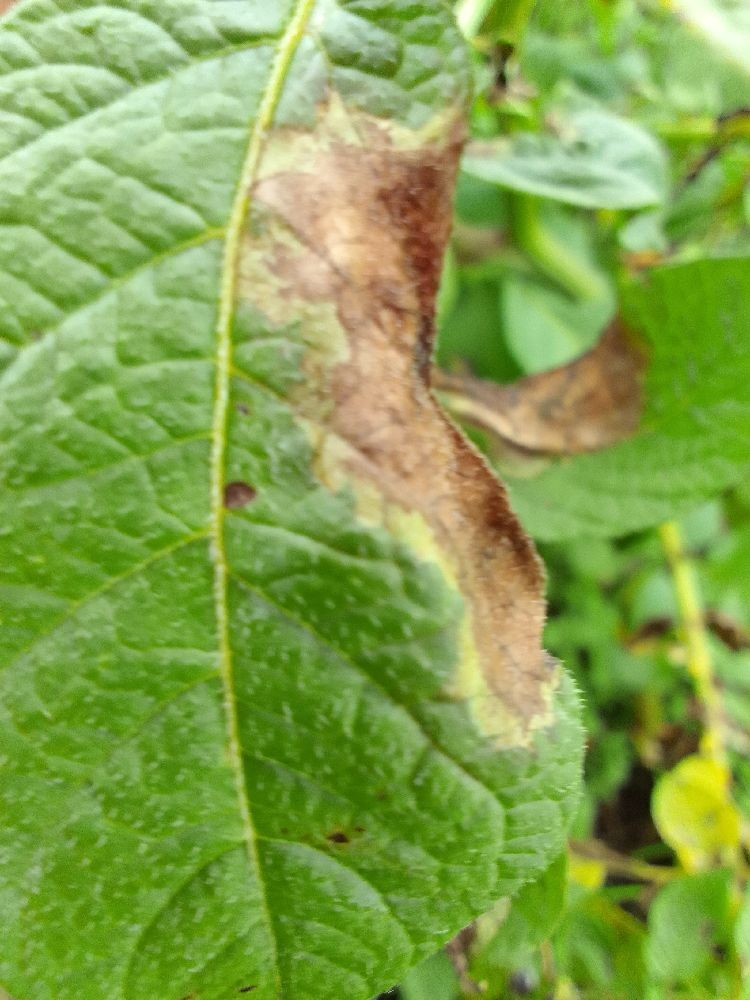late_blight: (212, 70, 665, 762), (540, 662, 750, 965)
